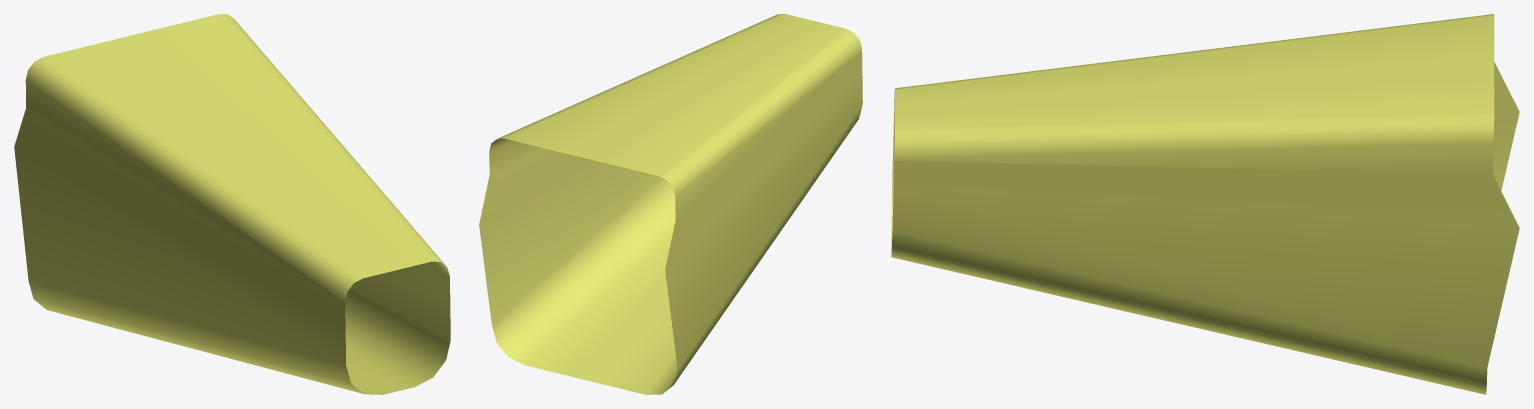
File: cessnagodotmiddle.glb
3 renders of one model, left to right at view 1: azimuth 30°, elevation 25°; view 2: azimuth 150°, elevation 25°; view 3: azimuth 270°, elevation 25°, orthographic. The views are drawn at different scales.
Visible parts, largest first — view 1: Fusalage.004; view 2: Fusalage.004; view 3: Fusalage.004.
Part boxes in pixels (left/top/right/bottom): Fusalage.004: left=14, top=14, right=450, bottom=394; Fusalage.004: left=479, top=14, right=862, bottom=394; Fusalage.004: left=891, top=14, right=1519, bottom=394.
Size of the model in its own units: 1.32 by 1.52 by 3.01.
